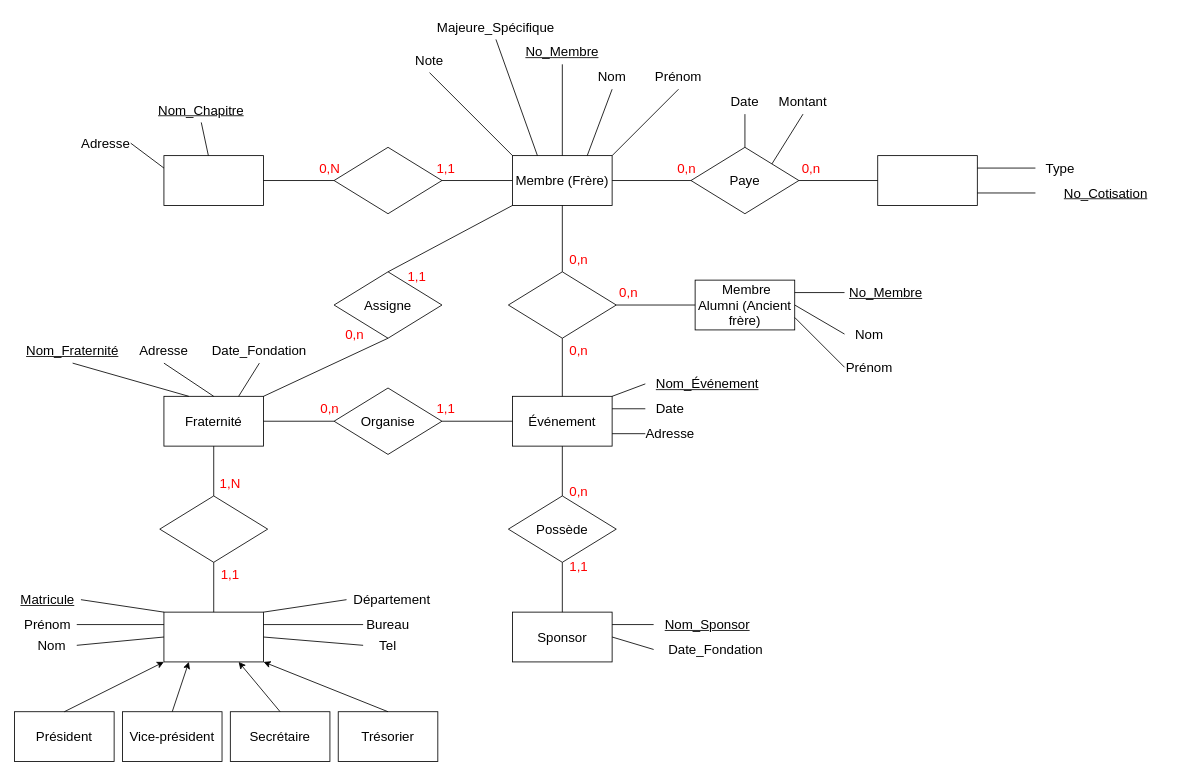
The diagram is 1191 pixels wide and 776 high, and some of its shapes have lost their labels. The shapes that lost their labels are listed below. From the top down, each one's centre as x and y in pixels, then its label:
At (x=213, y=180): "Chapitre".
At (x=387, y=180): "Affecte".
At (x=927, y=180): "Cotisation".
At (x=562, y=304): "participe".
At (x=213, y=528): "Dirige".
At (x=213, y=636): "Conseil exécutif".
